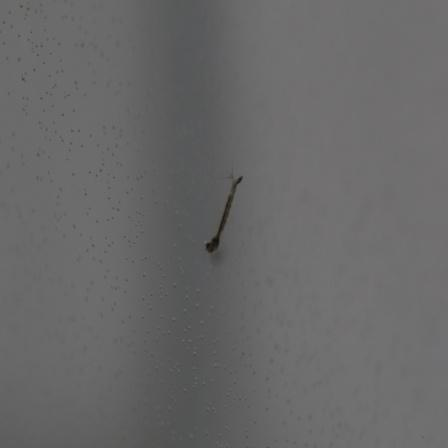Jentik-Nyamuk: (199, 169, 247, 257)
